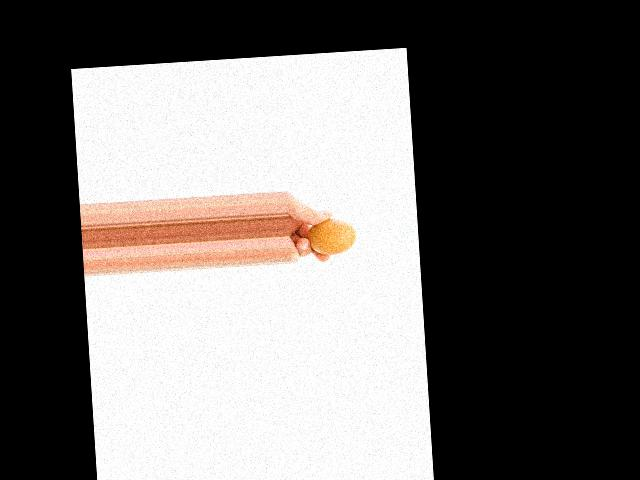egg: (307, 217, 357, 256)
